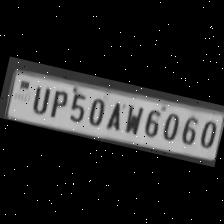0: (83, 93, 109, 128), (158, 108, 183, 142), (196, 116, 220, 150)
5: (64, 88, 90, 124)
6: (176, 111, 202, 146), (139, 105, 164, 139)
A: (103, 97, 126, 132)
P: (44, 85, 70, 120)
U: (26, 82, 52, 117)
W: (120, 100, 144, 136)
